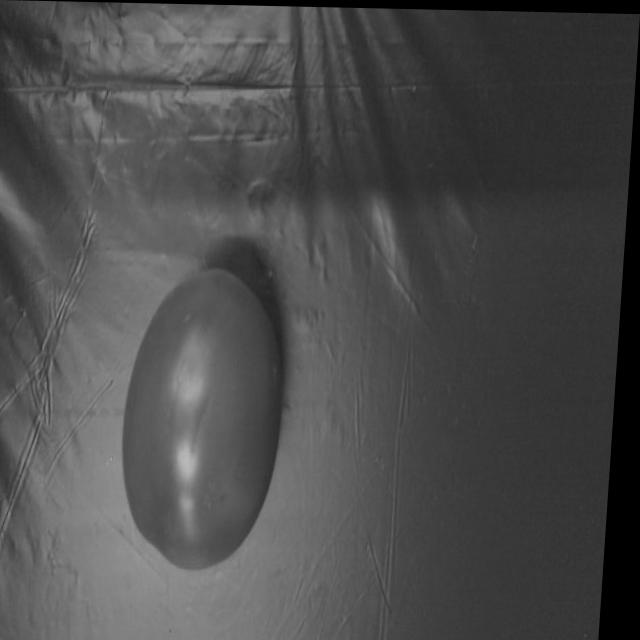kirmizi: (117, 267, 316, 573)
